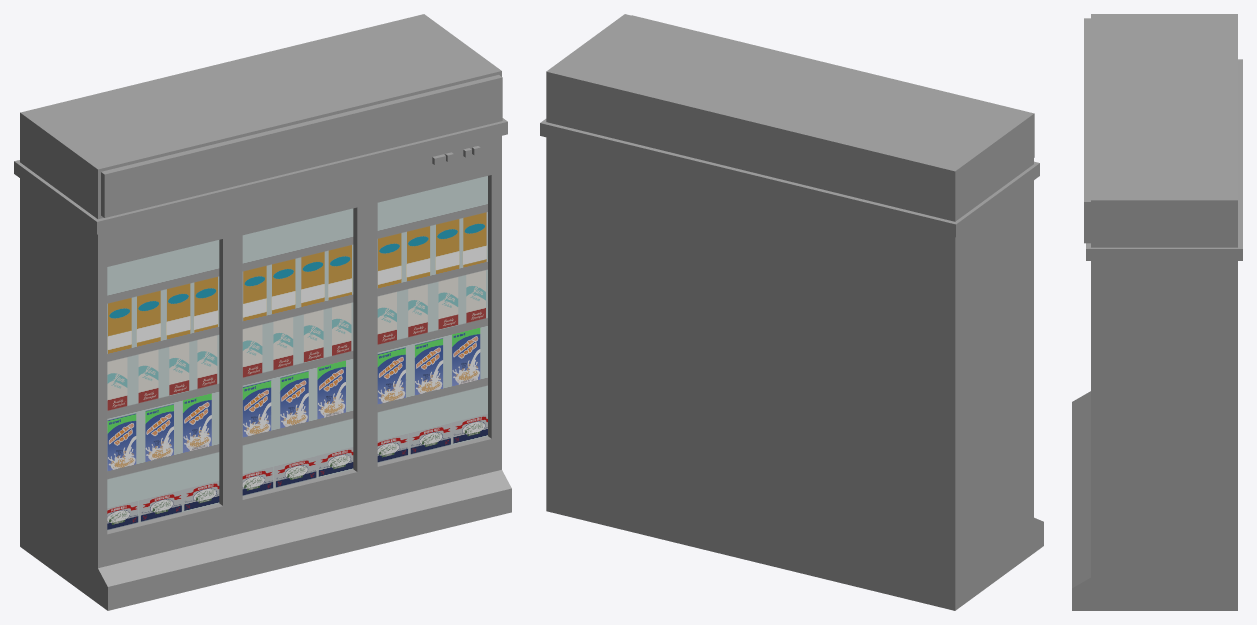
The model's file is Fridge.fbx.
3 renders of one model, left to right at view 1: azimuth 30°, elevation 25°; view 2: azimuth 150°, elevation 25°; view 3: azimuth 270°, elevation 25°, orthographic. The views are drawn at different scales.
Parts seen in each view (by area): view 1: Dridge, Texture, Texture2, Texture1, LIGHT; view 2: Dridge; view 3: Dridge, LIGHT.
Boxes of the visible parts, x1,y1,x2,y2 form: Dridge: (14,14,511,610); Texture: (107,240,219,530); Texture2: (242,208,353,495); Texture1: (377,176,487,462); LIGHT: (101,75,502,217); Dridge: (540,14,1043,610); Dridge: (1072,14,1242,610); LIGHT: (1084,18,1090,243).
Size of the model in its own units: 20.82 by 21.02 by 7.92.
